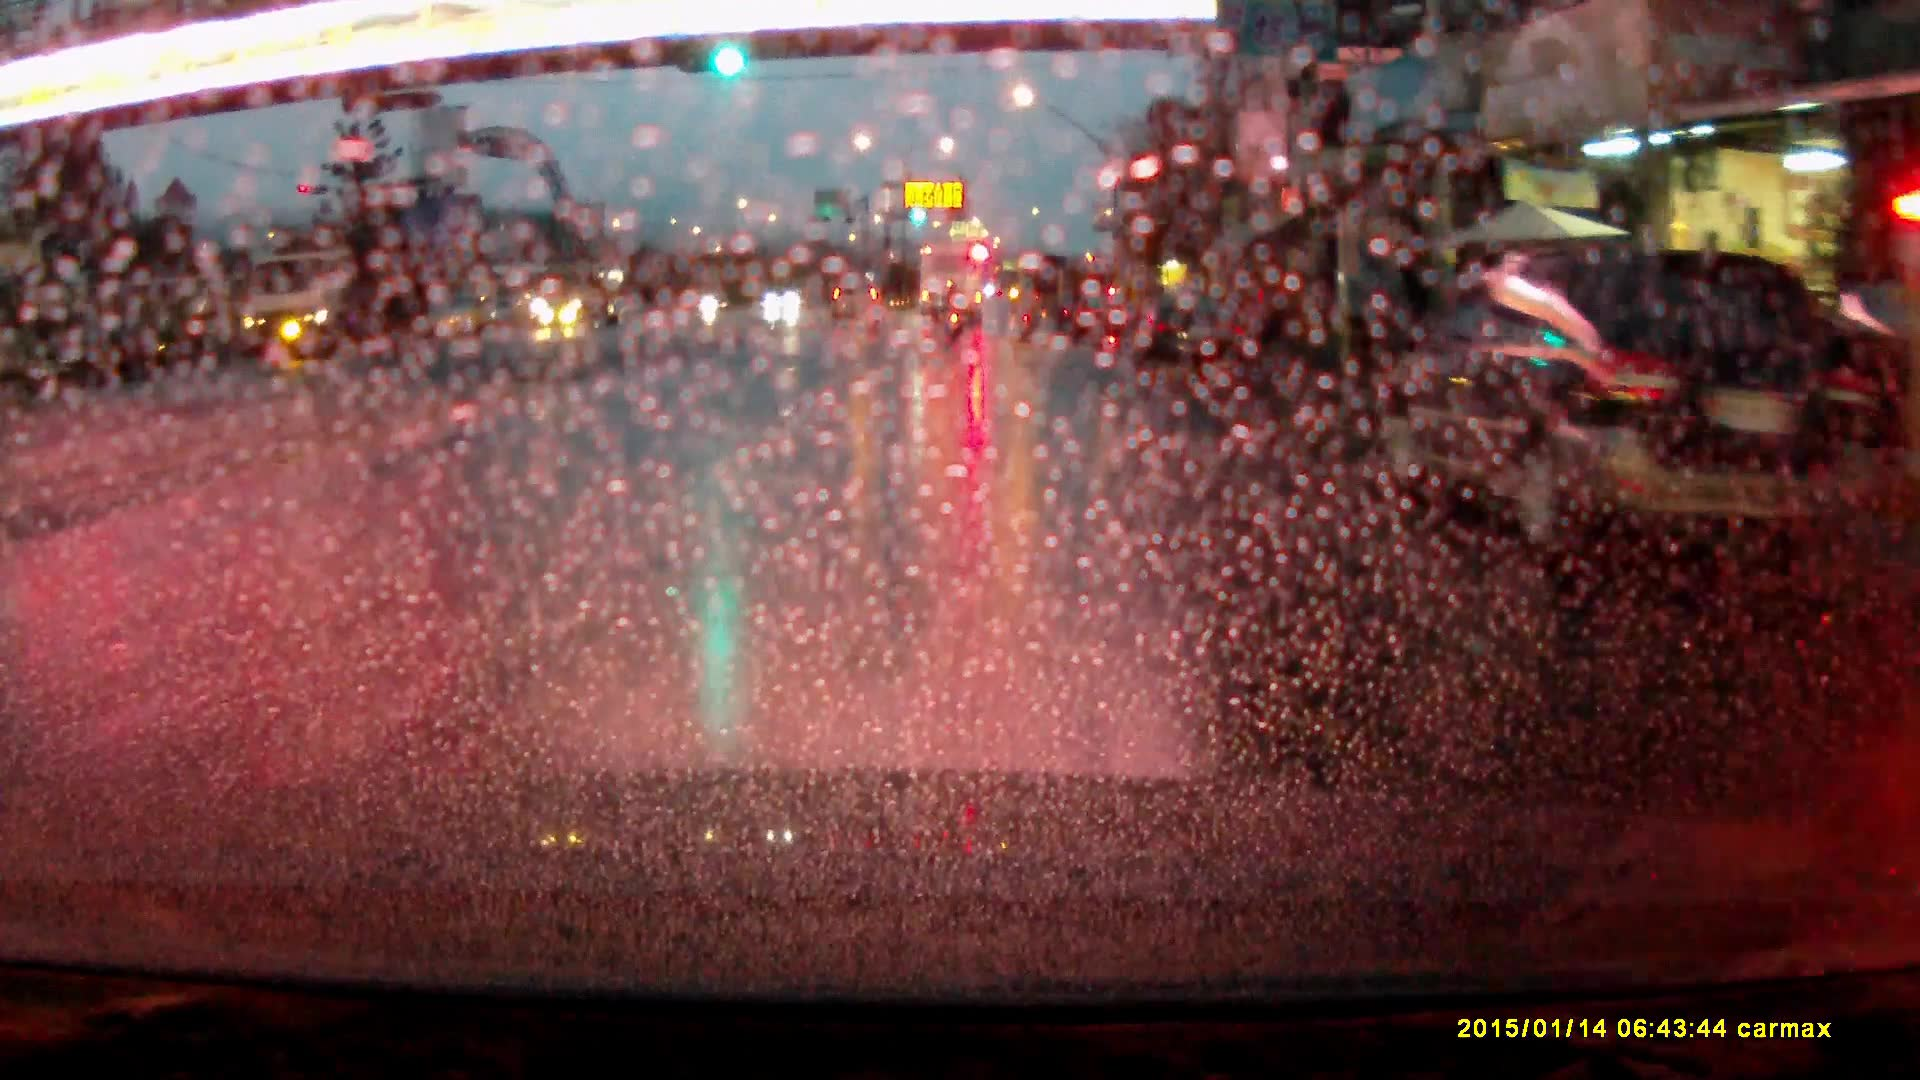rider: (945, 287, 966, 338)
vehicle: (1383, 244, 1825, 565), (239, 253, 420, 357), (1137, 294, 1247, 379), (919, 235, 987, 330), (537, 261, 631, 327), (1069, 295, 1136, 346), (829, 273, 886, 320)
